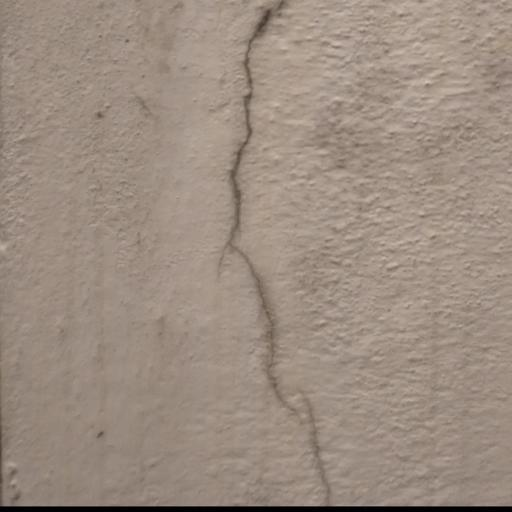minor_crack: (210, 4, 357, 512)
